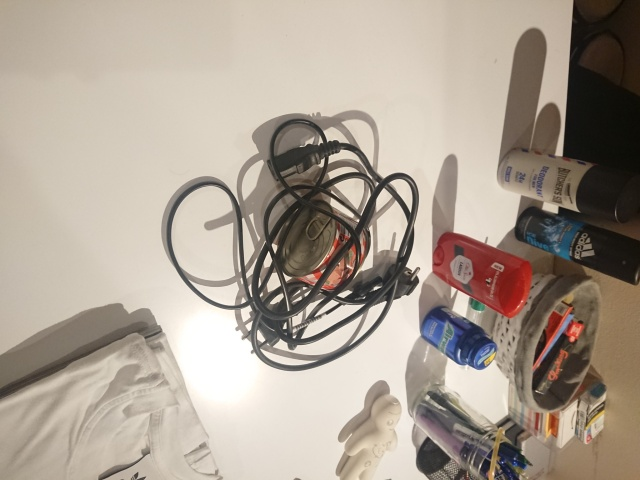Podravka Luncheon Meat 150g: (275, 198, 374, 295)
